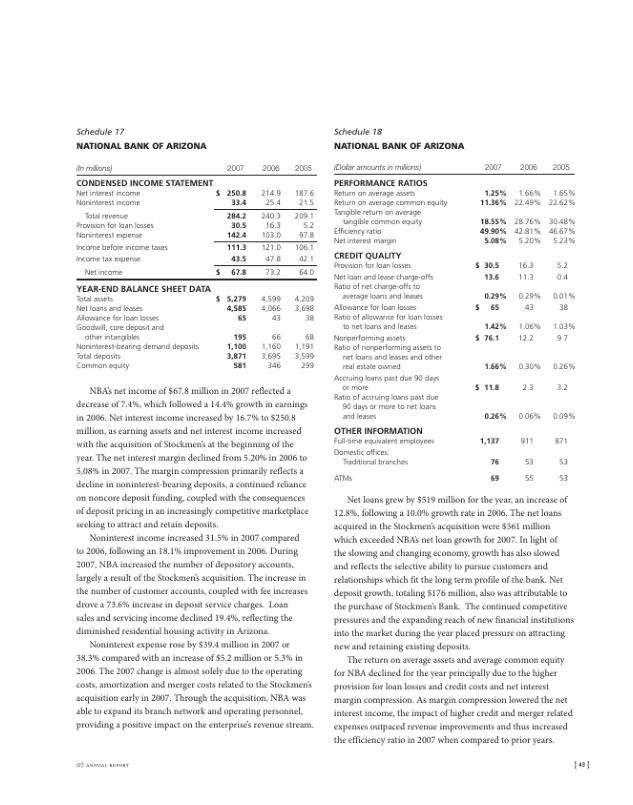table: (329, 159, 573, 484), (68, 160, 316, 378)
